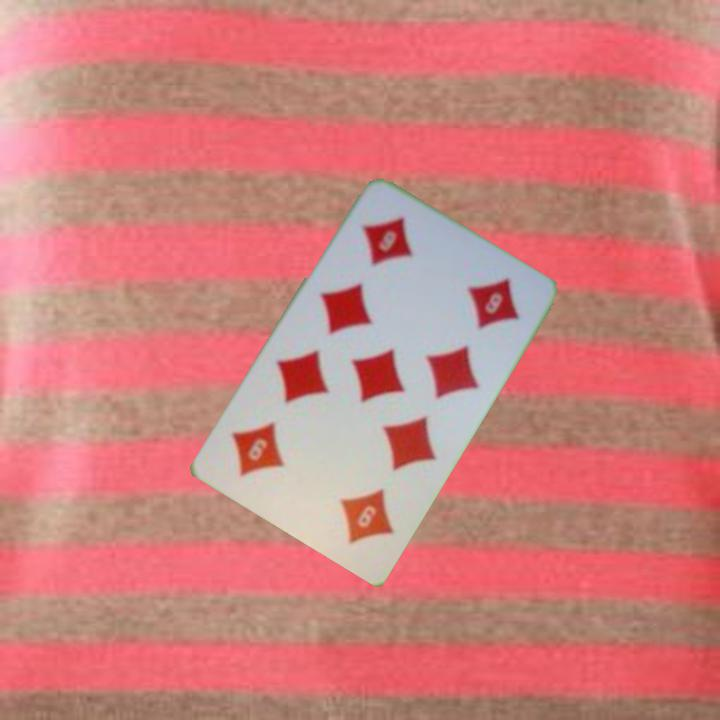d_9.png: (290, 442, 418, 566), (332, 192, 460, 315)
